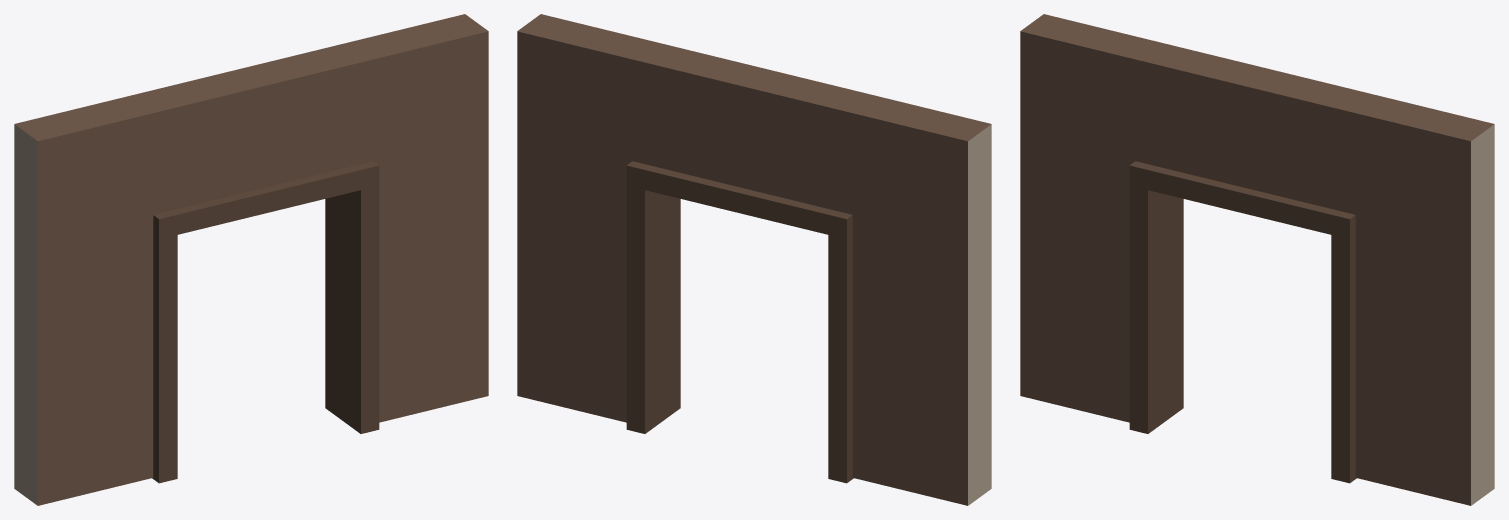
File: Structure_0.fbx
3 views of the same model, side by side, from view 1: azimuth 30°, elevation 25°; view 2: azimuth 150°, elevation 25°; view 3: azimuth 330°, elevation 25° (orthographic).
Parts seen in each view (by area): view 1: Model_0; view 2: Model_0; view 3: Model_0.
Part boxes in pixels (<box>): Model_0: <box>14,14,488,505</box>; Model_0: <box>517,14,991,505</box>; Model_0: <box>1020,14,1494,505</box>.
Size of the model in its own units: 5.5 by 4.26 by 0.75.
